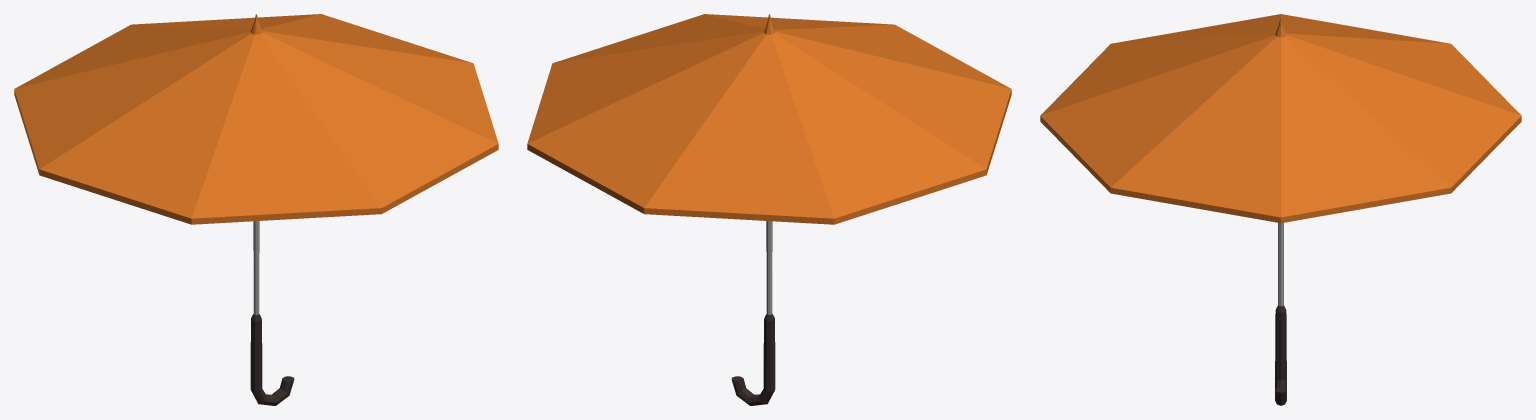
The model's file is Umbrella_Open.fbx.
3 views of the same model, side by side, from view 1: azimuth 30°, elevation 25°; view 2: azimuth 150°, elevation 25°; view 3: azimuth 270°, elevation 25° (orthographic). The views are drawn at different scales.
Visible parts, largest first — view 1: Umbrella_Open; view 2: Umbrella_Open; view 3: Umbrella_Open.
Part boxes in pixels (x1,y1,x2,y2): Umbrella_Open: [14, 14, 498, 405]; Umbrella_Open: [527, 14, 1011, 405]; Umbrella_Open: [1040, 14, 1521, 405].
Size of the model in its own units: 109 by 95.17 by 109.
